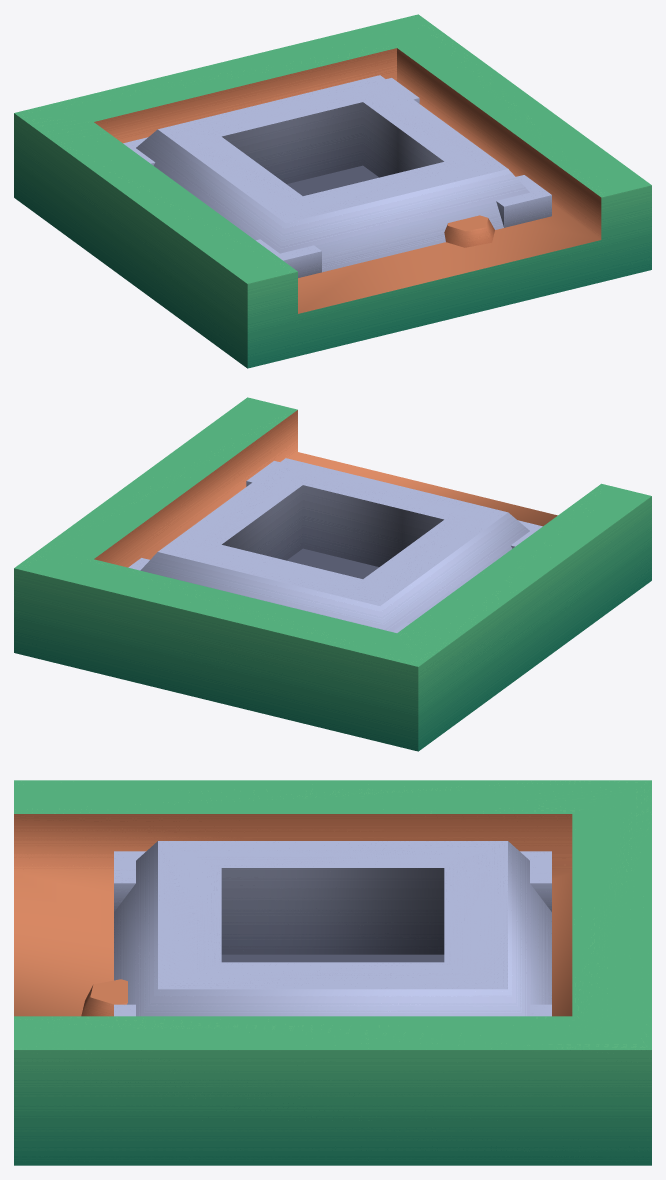
The model's file is tile-spawn-end.glb.
3 views of the same model, one above another, from view 1: azimuth 30°, elevation 25°; view 2: azimuth 150°, elevation 25°; view 3: azimuth 270°, elevation 25° (orthographic). The views are drawn at different scales.
Parts seen in each view (by area): view 1: tile-spawn-end; view 2: tile-spawn-end; view 3: tile-spawn-end.
Boxes of the visible parts, bbox=[...] form: tile-spawn-end: bbox=[14, 14, 651, 368]; tile-spawn-end: bbox=[14, 397, 651, 751]; tile-spawn-end: bbox=[14, 780, 651, 1165].
Size of the model in its own units: 3 by 0.6 by 3.
1 material, 1 textured.
